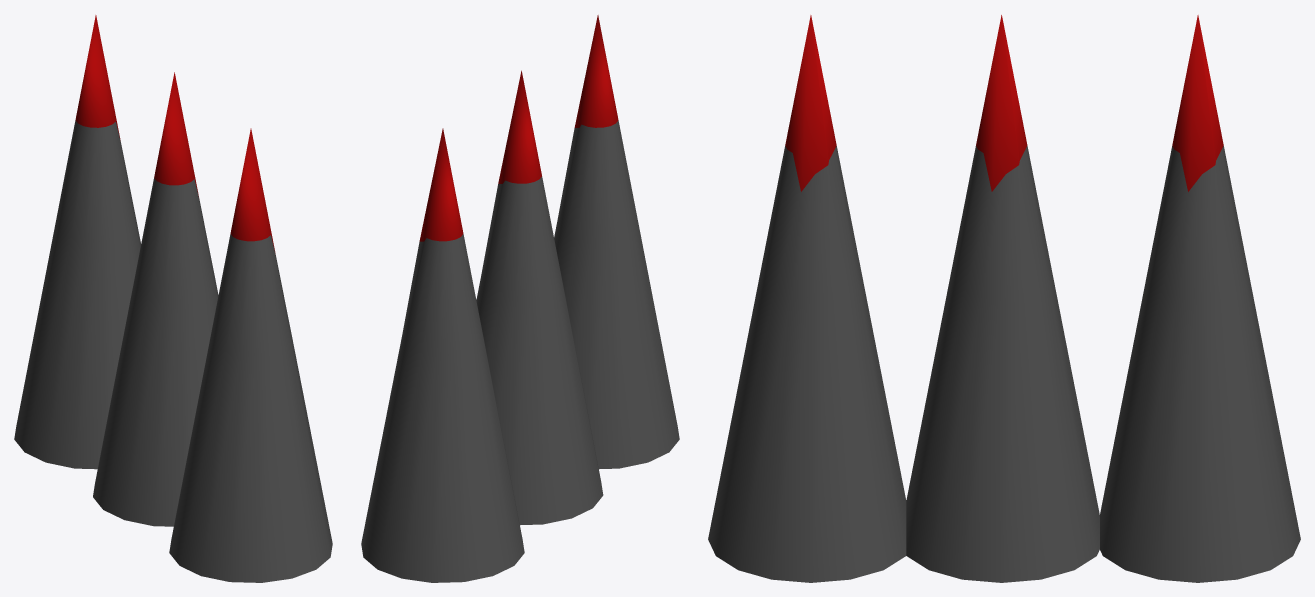
Rendered from Spikes3_01.fbx.
The picture shows the model from 3 angles, left to right: view 1: azimuth 30°, elevation 25°; view 2: azimuth 150°, elevation 25°; view 3: azimuth 270°, elevation 25°; orthographic projection. The views are drawn at different scales.
Visible parts, largest first — view 1: pCone18; view 2: pCone18; view 3: pCone18.
Part boxes in pixels (left/top/right/bottom): pCone18: left=14, top=15, right=332, bottom=582; pCone18: left=361, top=15, right=679, bottom=582; pCone18: left=708, top=15, right=1300, bottom=582.
Bounding box in the file's own units: 11.15 × 31.39 × 32.1.
